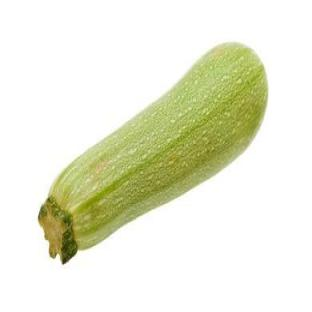Zucchini: (39, 44, 267, 262)
